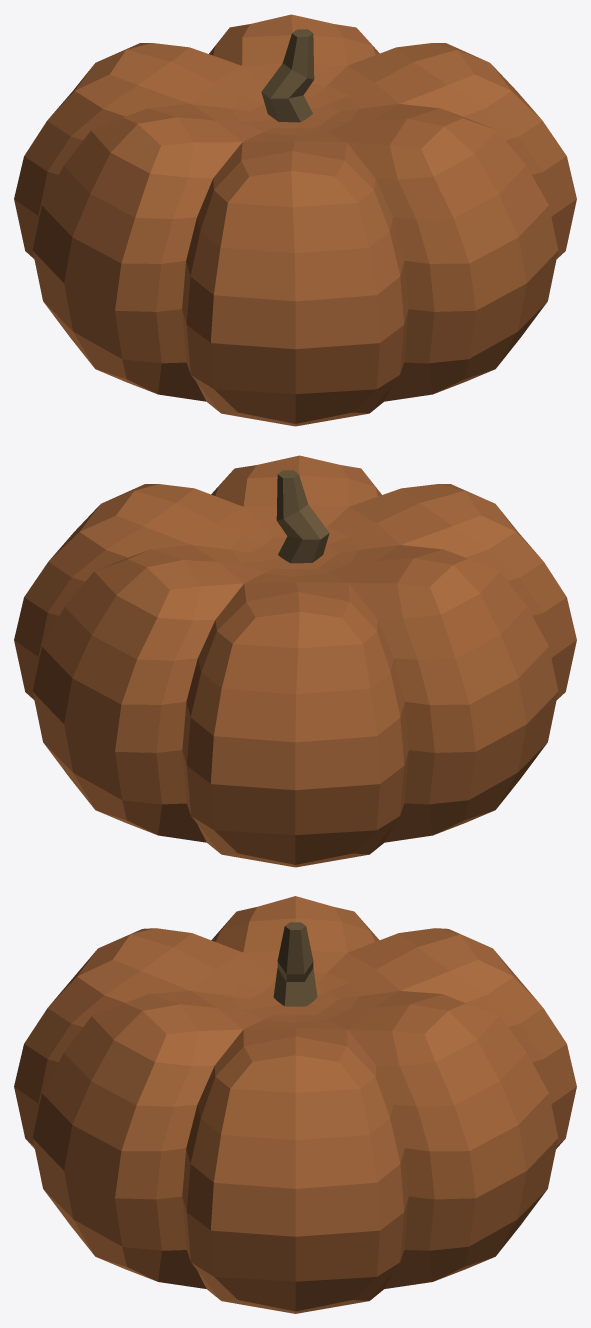
The model's file is Pumpkin.obj.
3 renders of one model, top to bottom at view 1: azimuth 30°, elevation 25°; view 2: azimuth 150°, elevation 25°; view 3: azimuth 270°, elevation 25°, orthographic.
Visible parts, largest first — view 1: mesh_1, mesh_0; view 2: mesh_1, mesh_0; view 3: mesh_1, mesh_0.
Boxes of the visible parts, left/top/right/bottom form: mesh_1: left=14, top=14, right=576, bottom=426; mesh_0: left=261, top=29, right=314, bottom=122; mesh_1: left=14, top=455, right=576, bottom=867; mesh_0: left=276, top=470, right=329, bottom=563; mesh_1: left=14, top=896, right=576, bottom=1313; mesh_0: left=273, top=922, right=317, bottom=1006.
Size of the model in its own units: 1.5 by 0.9309 by 1.51.
